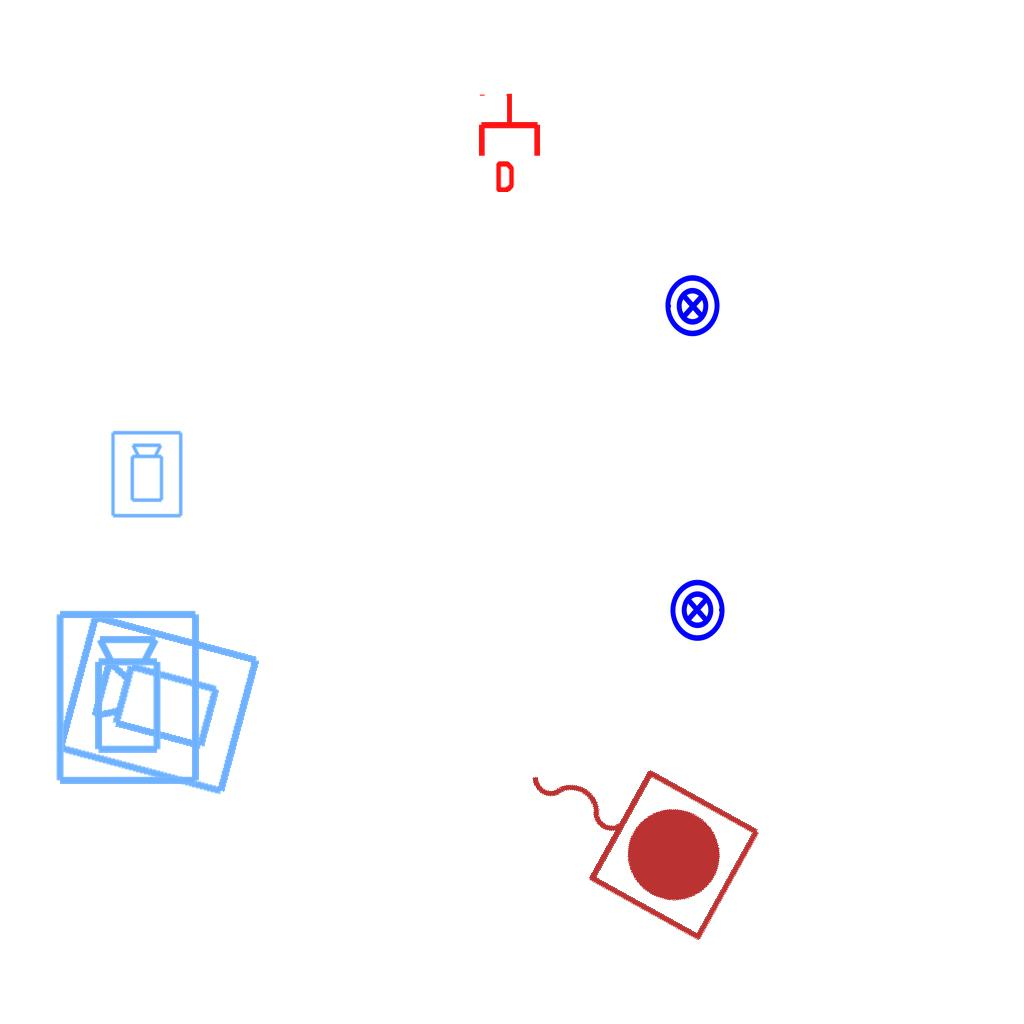Datenanschluss_einfach: (475, 92, 544, 192)
KFO_Kamera_mit_Festobjektiv: (51, 605, 267, 801), (52, 607, 206, 789), (109, 429, 186, 520)
Taster_beleuchtet: (660, 273, 726, 339), (664, 577, 730, 643)
Zugtaster: (489, 706, 773, 952)
